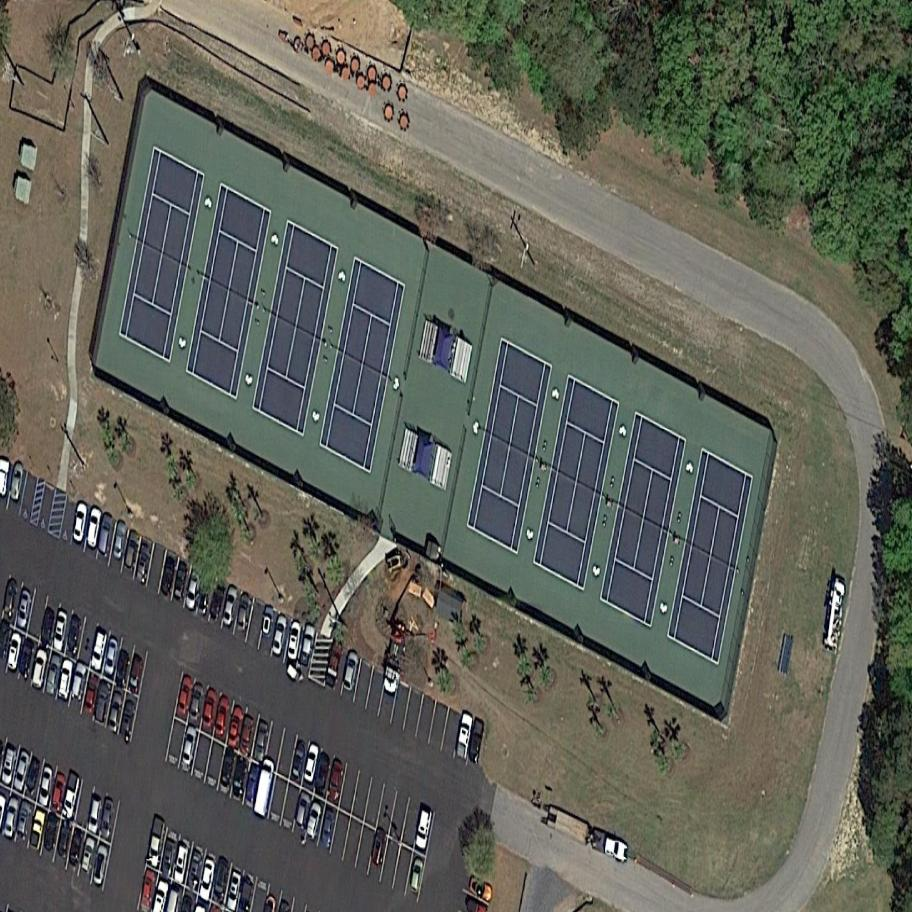large-vehicle: (537, 801, 636, 869)
small-vehicle: (145, 816, 169, 870), (60, 770, 84, 823), (322, 639, 345, 693), (463, 874, 499, 906), (453, 711, 474, 764), (41, 652, 64, 699), (21, 753, 43, 801), (87, 628, 108, 678), (211, 693, 232, 742), (466, 716, 487, 765), (40, 812, 62, 858), (2, 794, 23, 842), (325, 758, 346, 806), (242, 761, 263, 809), (30, 645, 51, 692), (197, 857, 218, 904), (414, 805, 434, 854), (64, 613, 85, 659), (158, 554, 179, 599), (118, 699, 139, 744), (10, 749, 31, 794), (28, 807, 48, 854), (225, 705, 244, 754), (303, 799, 324, 843), (91, 682, 113, 724), (37, 606, 58, 650), (51, 609, 71, 655), (228, 756, 248, 802), (90, 843, 110, 889), (172, 841, 192, 887), (65, 828, 86, 871), (5, 631, 25, 676), (180, 724, 199, 771), (211, 860, 230, 907), (251, 721, 271, 765), (105, 691, 125, 735), (139, 867, 159, 911), (317, 809, 337, 853), (237, 712, 256, 758), (55, 658, 74, 704), (14, 588, 33, 634), (96, 512, 115, 557), (302, 741, 321, 786), (186, 683, 205, 728), (185, 849, 204, 894), (200, 687, 218, 734), (220, 584, 239, 628), (285, 621, 304, 665), (299, 622, 317, 668), (85, 506, 103, 552), (176, 674, 194, 720), (82, 675, 102, 716), (342, 650, 361, 693), (102, 636, 121, 679), (134, 541, 153, 584), (16, 637, 35, 680), (159, 838, 178, 881), (85, 794, 104, 837), (2, 579, 20, 624), (208, 581, 227, 623), (218, 748, 237, 790), (55, 818, 74, 860), (99, 799, 117, 843), (183, 570, 202, 611), (70, 662, 89, 703), (111, 519, 129, 562), (123, 533, 141, 576), (270, 616, 288, 659), (49, 773, 67, 816), (0, 746, 18, 789), (72, 501, 89, 546), (314, 752, 332, 794), (8, 461, 25, 505), (234, 594, 252, 635), (79, 834, 97, 874), (15, 801, 33, 841), (371, 827, 389, 867), (294, 791, 312, 830), (127, 654, 144, 695), (172, 562, 189, 603), (409, 855, 426, 894), (290, 743, 307, 782), (113, 651, 130, 689), (38, 765, 53, 807), (261, 605, 275, 640)
